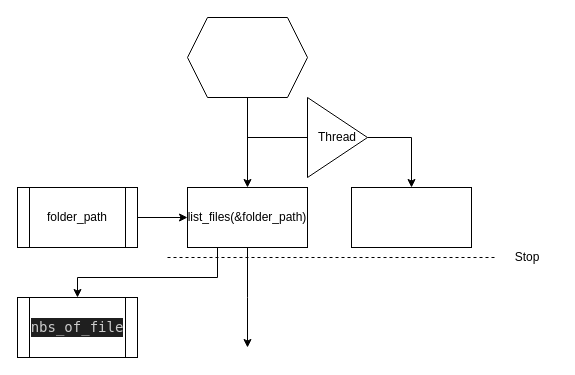
This 575x375 diagram has some shape labels left out. The centre of each missing label's shape, as x and y in pixels:
main: the point at 247,57
spinner(): the point at 411,217
